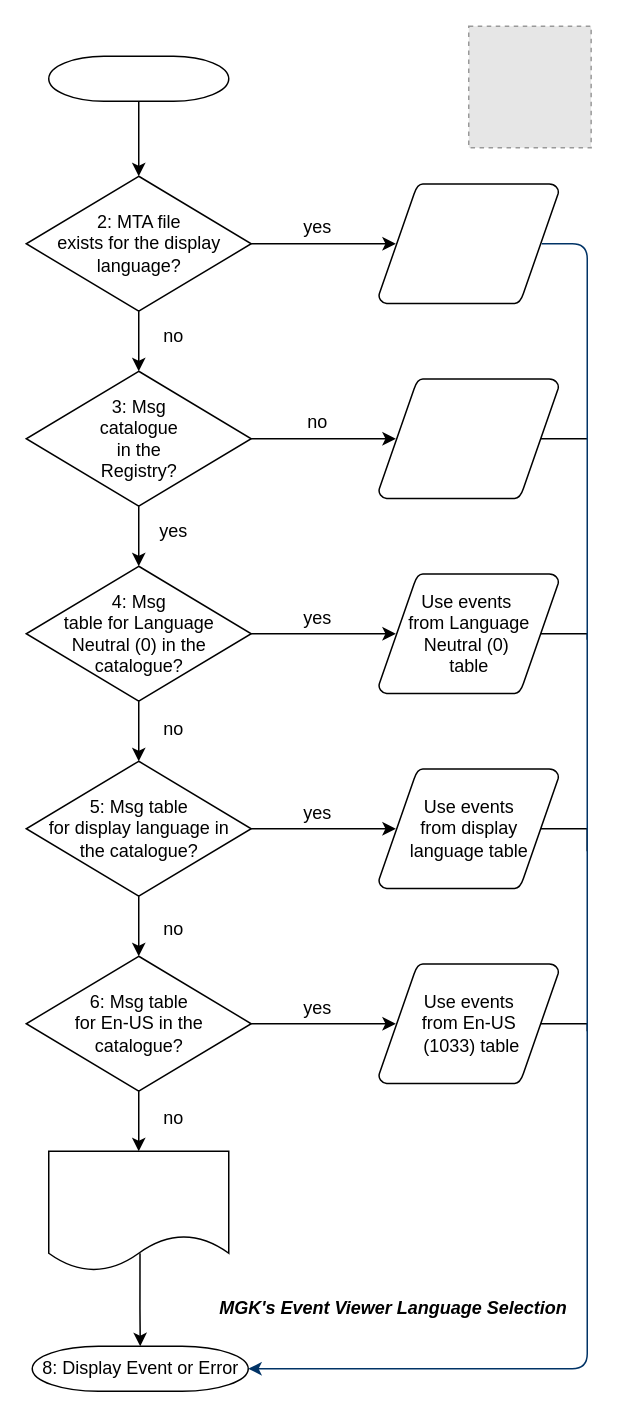
Some shapes in this 626 by 1418 pixel diagram are drawn without their labels. Grey dashed boxes stand in for pictures. Each missing label, with the centre of its shape:
"1: Select Event" goes at point (138, 78).
"7: Use lowest numbered msg table in catalogue" goes at point (138, 1210).
"Error - event not found" goes at point (468, 438).
"Get event from MTA file" goes at point (468, 243).
